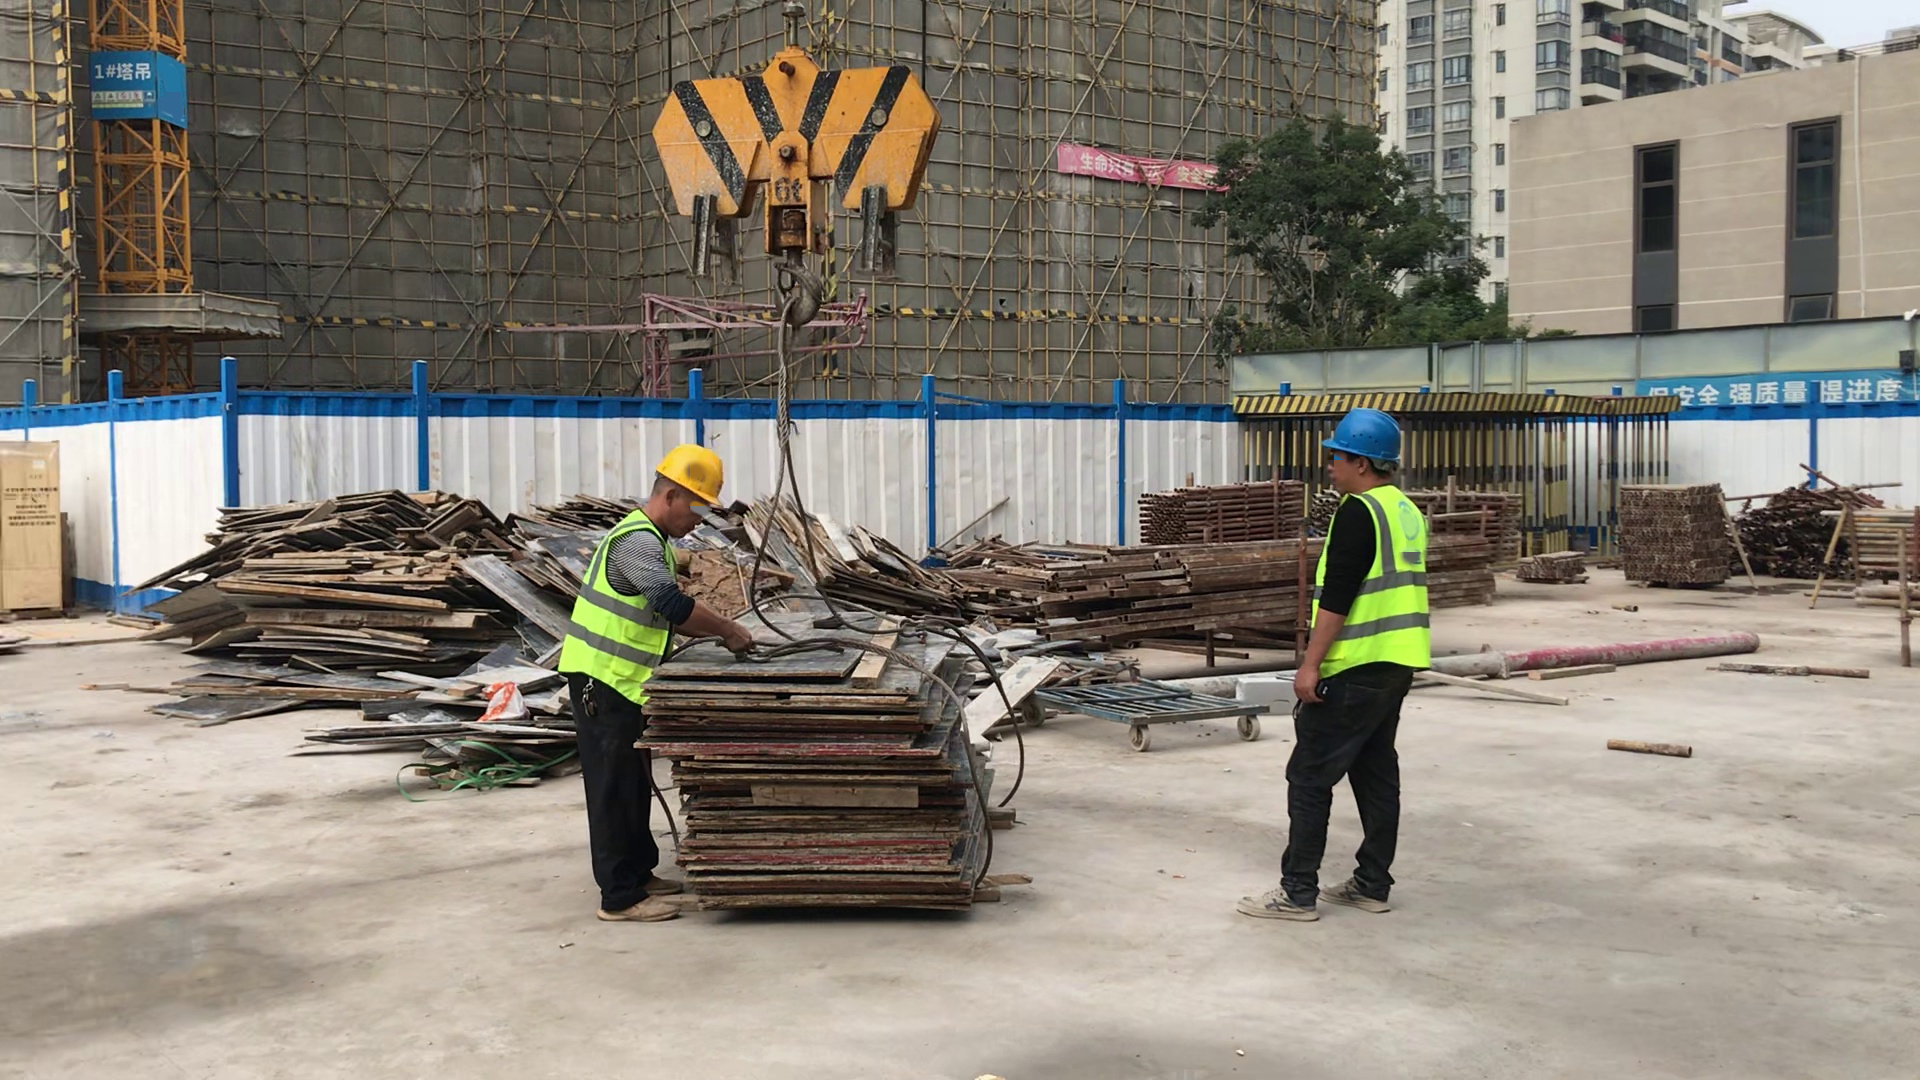board: (636, 671, 985, 924)
helmet: (657, 442, 728, 503), (1322, 409, 1400, 461)
hook: (644, 69, 940, 331)
person: (559, 441, 763, 922), (1254, 408, 1429, 937)
scaffold: (1622, 483, 1725, 582), (1148, 482, 1303, 538), (1447, 496, 1522, 568), (1846, 509, 1920, 566)
slogan: (1059, 142, 1225, 191), (1641, 377, 1920, 405), (91, 90, 148, 105)
vest: (1304, 486, 1428, 683), (565, 508, 673, 710)
